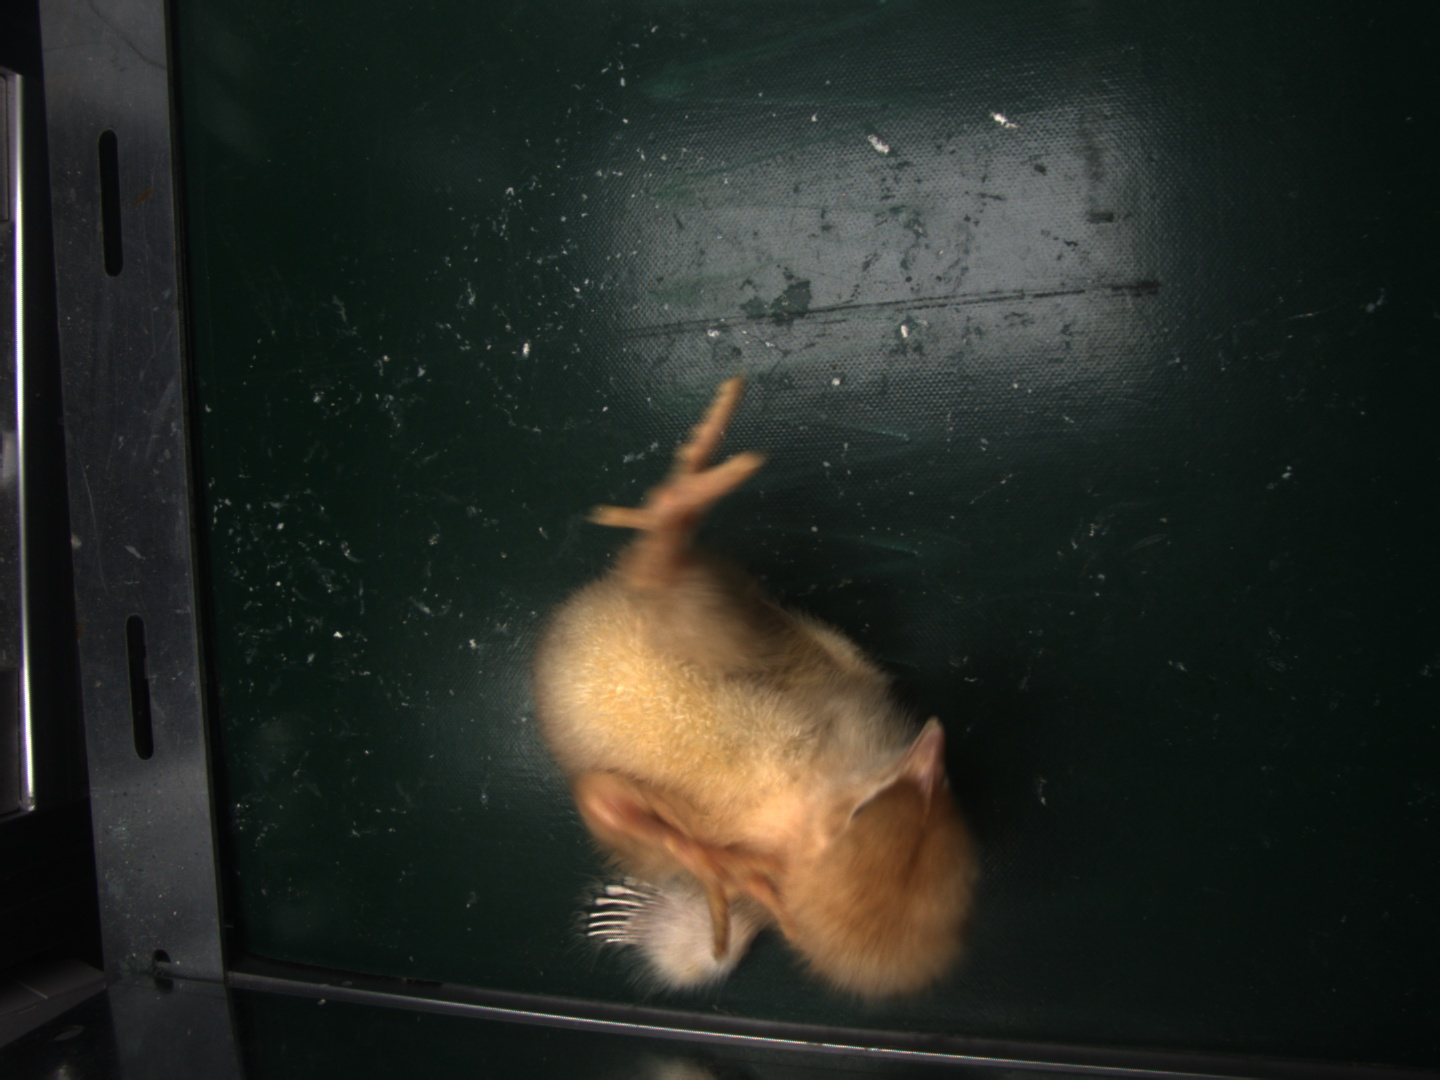female: (592, 884, 651, 951)
